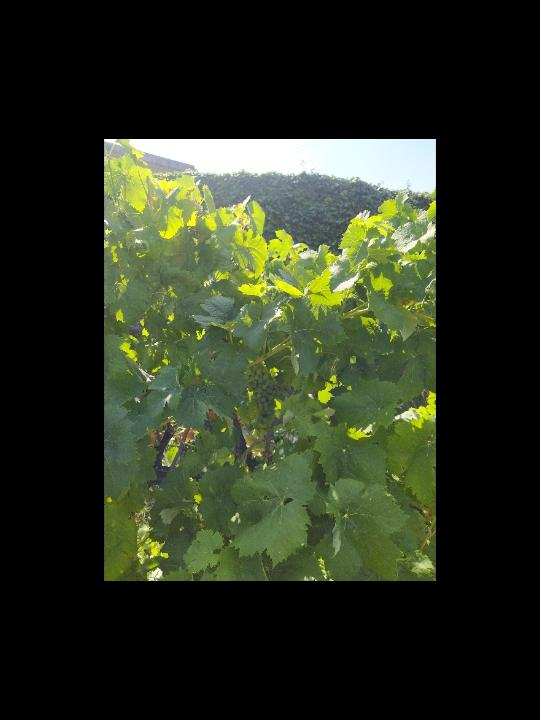grape: (244, 364, 282, 444)
